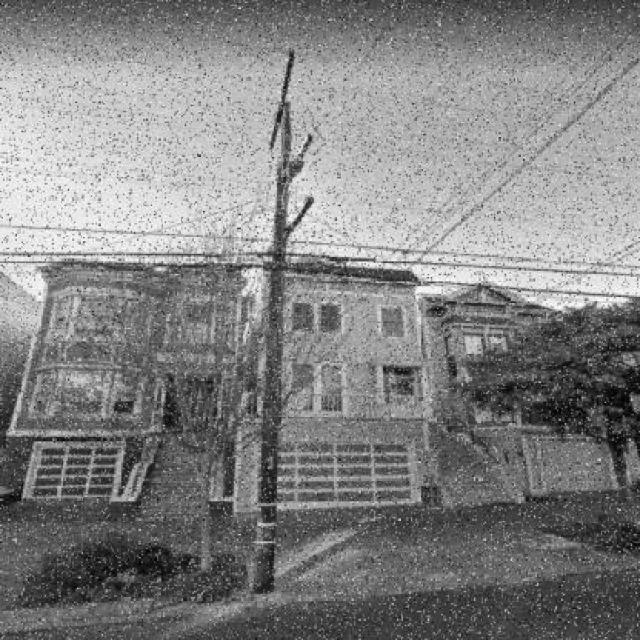pole: (182, 29, 342, 608)
